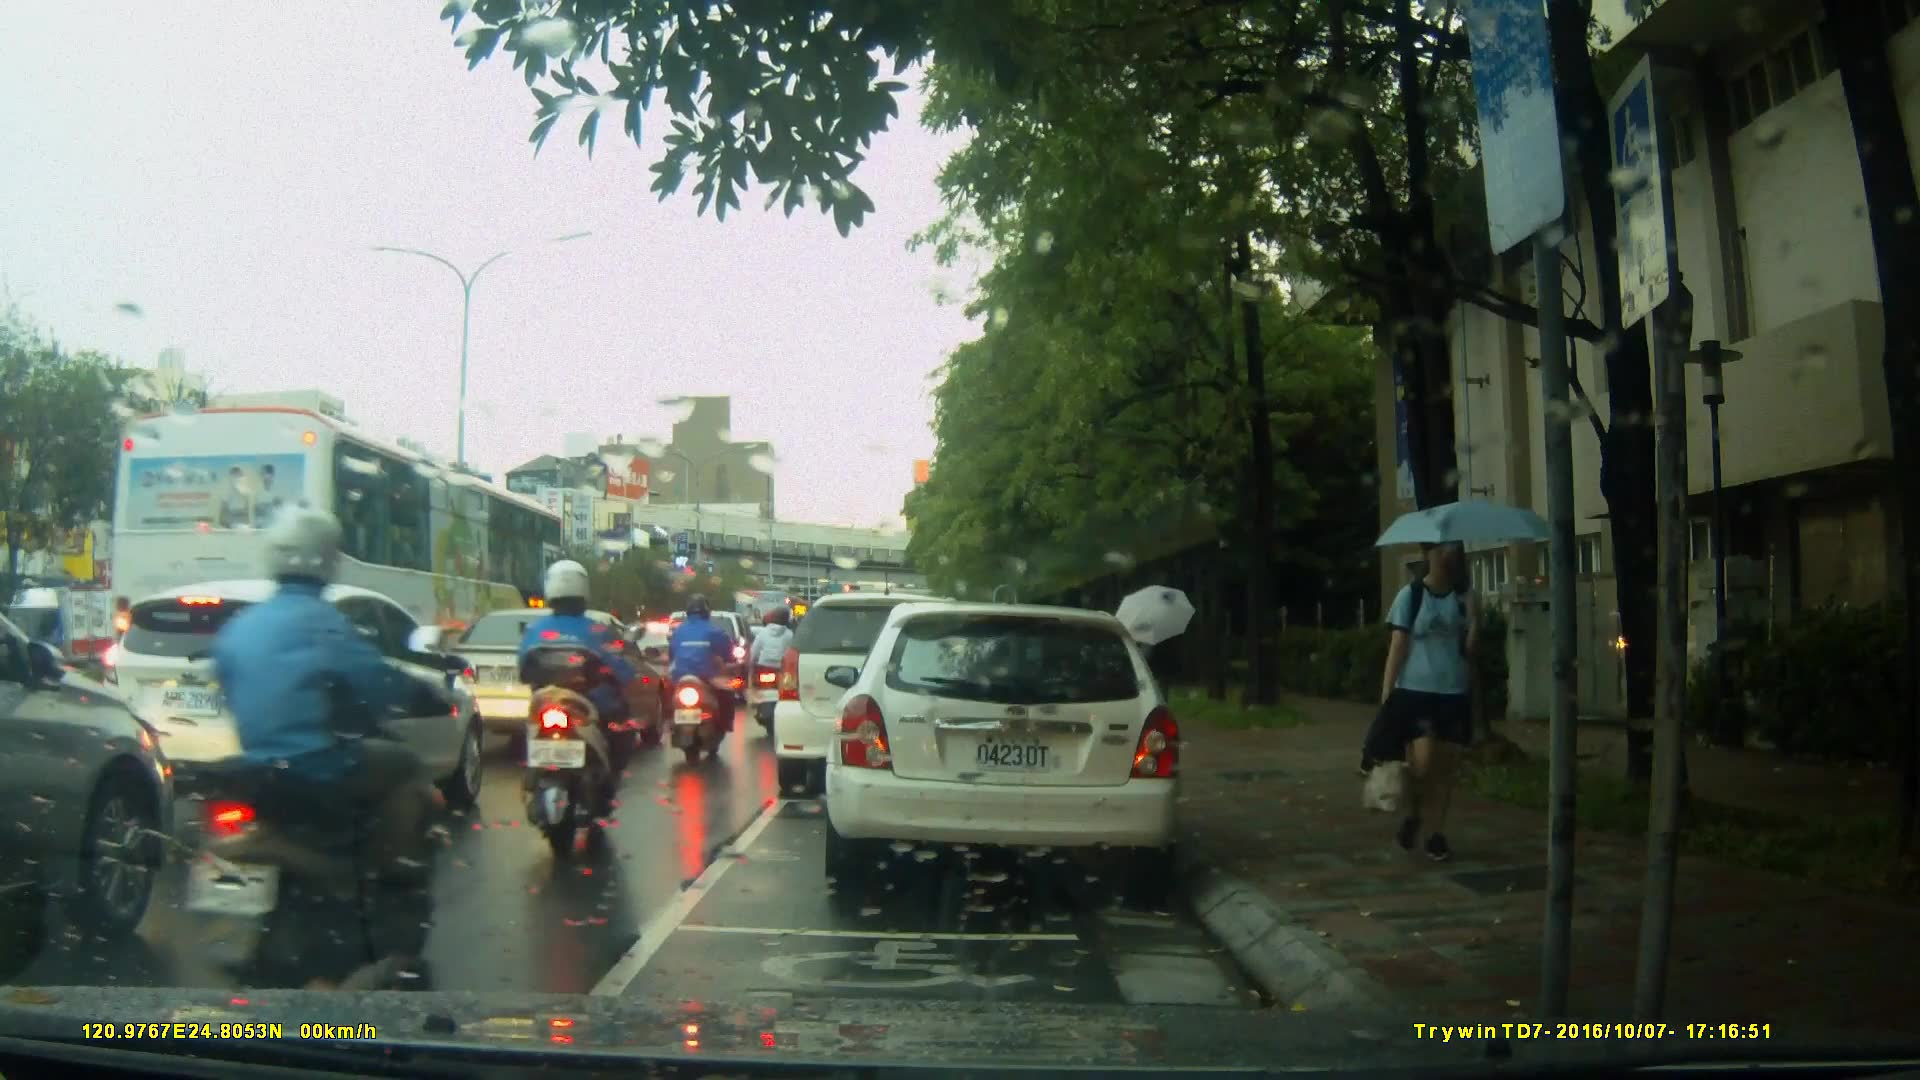pedestrian: (1355, 528, 1510, 871)
rider: (178, 498, 455, 1049), (514, 562, 648, 851), (660, 598, 736, 769), (756, 599, 811, 741)
vehicle: (106, 400, 573, 730), (835, 594, 1194, 898), (98, 576, 486, 846), (776, 590, 1026, 784), (423, 605, 666, 749), (1, 586, 155, 697), (609, 619, 719, 715)
